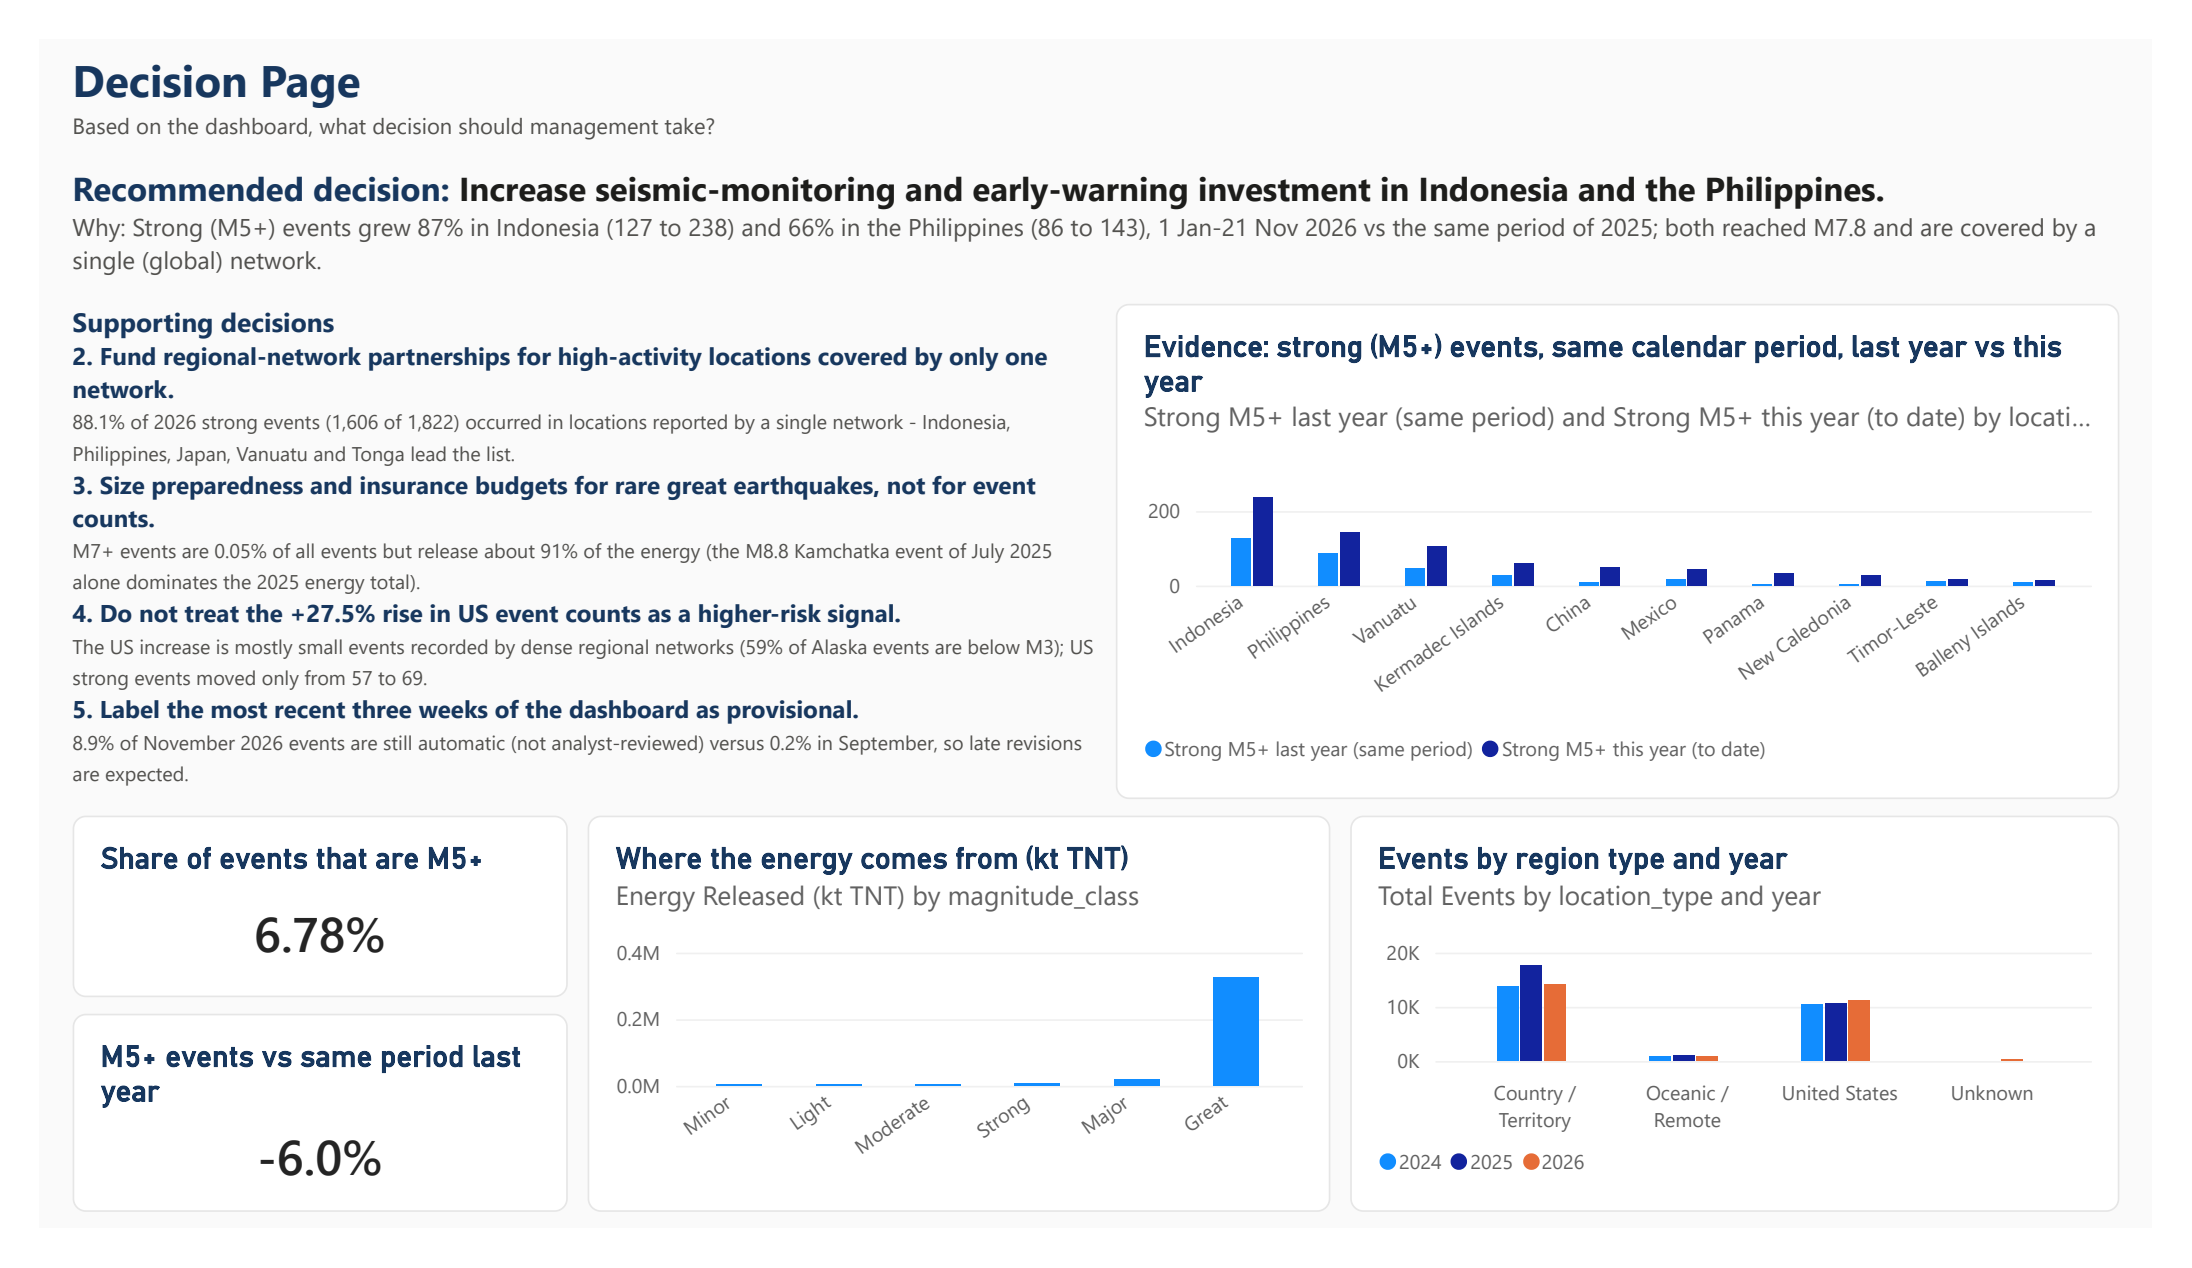

What the dashboard file says about the page in this screenshot:
{"tool":"powerbi","page":{"name":"Decision Page","canvas":[1280,720],"ordinal":2},"visuals":[{"type":"textbox","box":[20,6,1000,66],"z":1000},{"type":"textbox","box":[20,76,1240,78],"z":2000},{"type":"textbox","box":[20,160,620,300],"z":3000},{"type":"clusteredColumnChart","title":"Evidence: strong (M5+) events, same calendar period, last year vs this year","fields":{"Category":["vw_strong_event_growth.location_label"],"Y":["vw_strong_event_growth.Strong M5+ last year (same period)","vw_strong_event_growth.Strong M5+ this year (to date)"]},"box":[652,160,608,300],"z":4000},{"type":"card","title":"Share of events that are M5+","fields":{"Values":["fact_seismic_event.Strong Event Share"]},"box":[20,470,300,110],"z":5000},{"type":"card","title":"M5+ events vs same period last year","fields":{"Values":["fact_seismic_event.Strong Events YoY % (same period)"]},"box":[20,590,300,120],"z":6000},{"type":"clusteredColumnChart","title":"Where the energy comes from (kt TNT)","fields":{"Category":["dim_magnitude_class.magnitude_class"],"Y":["fact_seismic_event.Energy Released (kt TNT)"]},"box":[332,470,450,240],"z":7000},{"type":"clusteredColumnChart","title":"Events by region type and year","fields":{"Category":["dim_location.location_type"],"Series":["dim_date.year"],"Y":["fact_seismic_event.Total Events"]},"box":[794,470,466,240],"z":8000}]}

Visuals, with their boxes in screenshot pixels (x1, y1, x2, y2), scaled from the page's 1280x720 canvas onto the 2192x1268 screenshot:
textbox: crop(34, 11, 1747, 127)
textbox: crop(34, 134, 2158, 271)
textbox: crop(34, 282, 1096, 810)
"Evidence: strong (M5+) events, same calendar period, last year vs this year" clusteredColumnChart: crop(1117, 282, 2158, 810)
"Share of events that are M5+" card: crop(34, 828, 548, 1021)
"M5+ events vs same period last year" card: crop(34, 1039, 548, 1250)
"Where the energy comes from (kt TNT)" clusteredColumnChart: crop(569, 828, 1339, 1250)
"Events by region type and year" clusteredColumnChart: crop(1360, 828, 2158, 1250)
